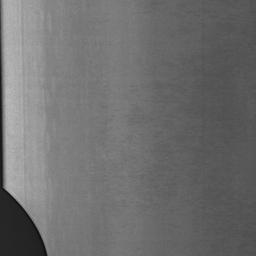Crescent gap: (0, 188, 48, 256)
